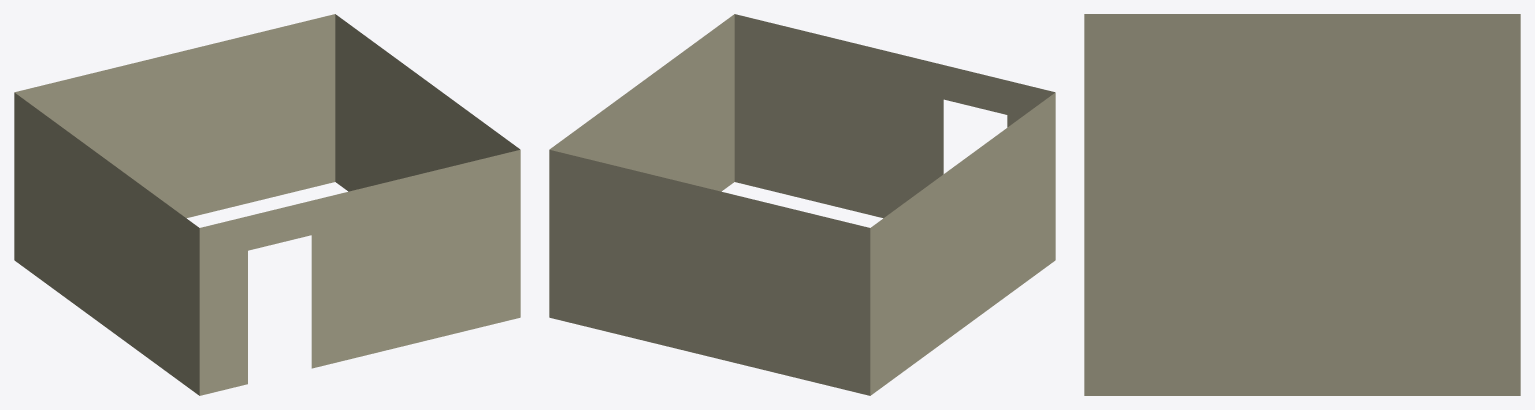
The model's file is Homeworld_Interior_Md_Room_A_Filling_01_Vo.fbx.
3 renders of one model, left to right at view 1: azimuth 30°, elevation 25°; view 2: azimuth 150°, elevation 25°; view 3: azimuth 270°, elevation 25°, orthographic. The views are drawn at different scales.
Parts seen in each view (by area): view 1: Homeworld_Interior_Md_Room_A_Filling_01_Vo; view 2: Homeworld_Interior_Md_Room_A_Filling_01_Vo; view 3: Homeworld_Interior_Md_Room_A_Filling_01_Vo.
Boxes of the visible parts, x1,y1,x2,y2 form: Homeworld_Interior_Md_Room_A_Filling_01_Vo: (14, 14, 520, 395); Homeworld_Interior_Md_Room_A_Filling_01_Vo: (549, 14, 1055, 395); Homeworld_Interior_Md_Room_A_Filling_01_Vo: (1084, 14, 1520, 395).
Bounding box in the file's own units: 10 × 5 × 10.
